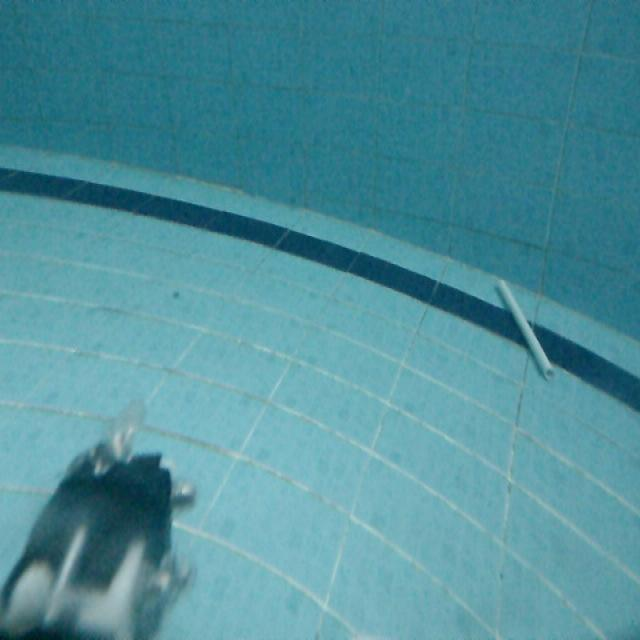Cube: (495, 276, 554, 384)
